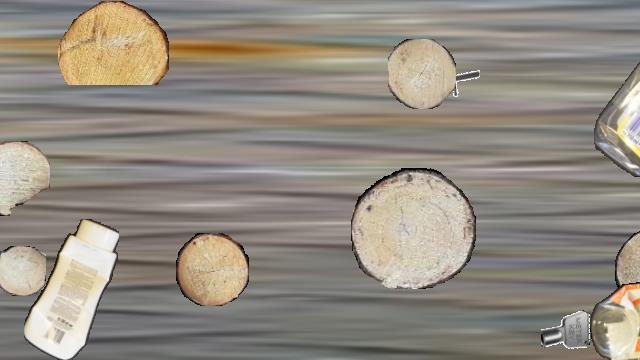glass: (0, 275, 8, 359)
metal: (541, 306, 591, 356), (442, 61, 480, 99)
plastic: (24, 219, 118, 359), (594, 1, 640, 177), (590, 279, 640, 359)
wood: (351, 168, 475, 288), (58, 1, 168, 85), (176, 233, 248, 305), (388, 39, 456, 109), (0, 141, 50, 215), (0, 246, 46, 296), (615, 229, 640, 313)
